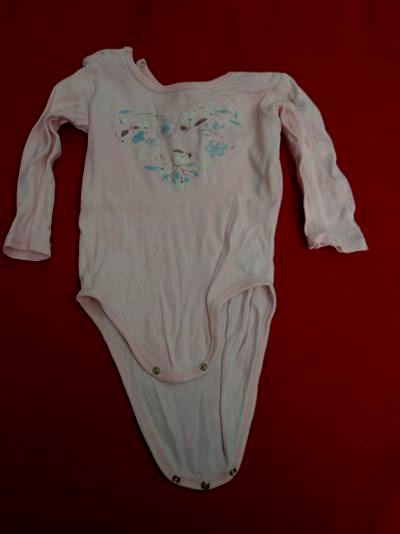Body: (8, 35, 386, 481)
